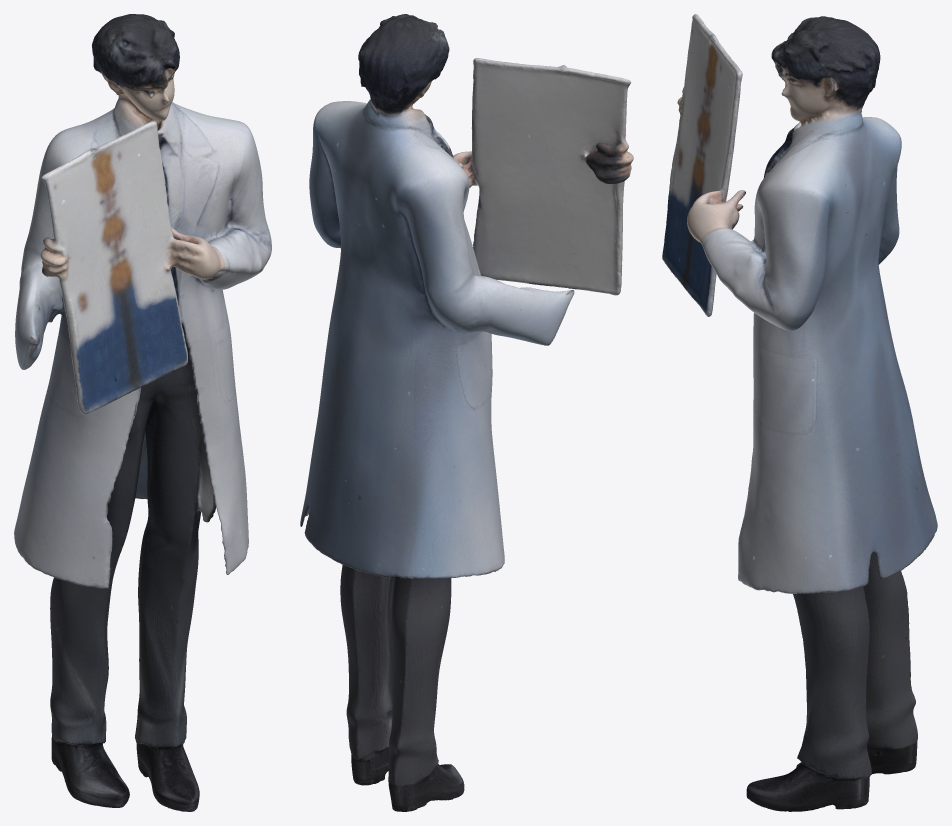
The model's file is teacher.glb.
3 views of the same model, side by side, from view 1: azimuth 30°, elevation 25°; view 2: azimuth 150°, elevation 25°; view 3: azimuth 270°, elevation 25° (orthographic).
Bounding box in the file's own units: 0.7416 × 2 × 0.6467.
Materials: 1 (1 with a texture image).
